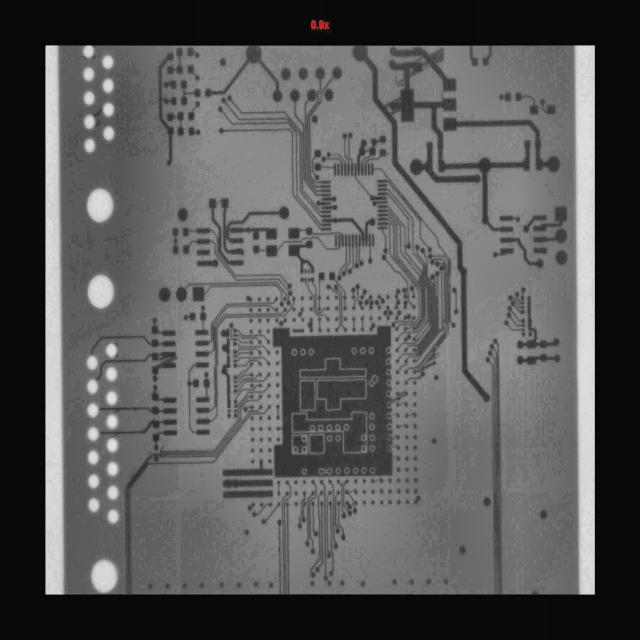Both: (86, 188, 114, 224), (90, 559, 118, 594), (87, 274, 114, 309), (104, 390, 120, 406), (85, 379, 99, 394), (106, 461, 119, 477), (83, 114, 96, 130), (87, 474, 100, 489), (106, 485, 119, 500), (82, 90, 95, 105), (86, 355, 99, 370), (83, 139, 96, 153), (87, 403, 99, 418), (88, 498, 100, 512), (87, 450, 99, 464), (105, 367, 117, 381), (106, 414, 117, 429), (103, 126, 114, 141), (106, 343, 117, 357), (107, 438, 118, 452), (83, 67, 94, 81), (108, 510, 119, 523), (102, 56, 113, 69), (103, 79, 114, 92), (103, 103, 114, 116), (88, 428, 99, 440), (83, 46, 94, 58)
L1: (315, 40, 529, 406), (364, 25, 569, 245), (78, 366, 273, 595), (75, 361, 263, 595), (77, 369, 264, 595), (349, 149, 481, 375), (216, 79, 359, 231), (165, 270, 299, 432), (218, 95, 360, 239), (220, 75, 355, 222), (226, 74, 354, 219), (272, 326, 393, 478), (167, 280, 288, 420), (369, 183, 440, 352), (364, 199, 444, 342), (176, 215, 295, 306), (159, 384, 266, 479), (180, 229, 297, 308), (360, 214, 435, 332), (355, 218, 431, 332), (367, 208, 437, 331), (181, 283, 280, 363), (439, 114, 564, 172), (378, 206, 431, 342), (185, 278, 279, 352), (393, 273, 456, 372), (277, 89, 331, 203), (403, 257, 450, 377), (410, 265, 463, 370), (371, 175, 441, 253), (388, 33, 462, 102), (408, 140, 483, 207), (303, 65, 342, 185), (205, 45, 284, 102), (293, 89, 331, 195), (405, 268, 446, 365), (220, 193, 291, 249), (91, 339, 179, 382), (301, 67, 331, 188), (197, 197, 245, 272), (367, 188, 425, 250), (404, 244, 436, 353), (292, 412, 368, 456), (176, 279, 292, 306), (516, 296, 567, 357), (412, 248, 441, 353), (374, 253, 424, 310), (490, 344, 501, 595), (485, 357, 496, 595), (89, 328, 177, 356), (488, 351, 498, 595), (192, 281, 285, 307), (493, 339, 502, 595), (252, 233, 342, 258), (498, 228, 545, 274), (210, 196, 244, 259), (428, 249, 463, 309), (345, 163, 389, 208), (318, 213, 369, 247), (296, 275, 330, 325), (352, 131, 388, 176), (187, 362, 209, 435), (159, 53, 173, 166), (317, 379, 367, 410), (98, 418, 178, 437), (279, 480, 292, 595), (287, 223, 346, 248), (299, 356, 366, 378), (528, 204, 572, 234), (324, 269, 354, 311), (230, 381, 273, 409), (310, 491, 324, 577), (278, 491, 289, 595), (231, 370, 272, 395), (305, 274, 330, 315), (512, 86, 543, 119), (358, 145, 389, 176), (223, 322, 254, 352), (147, 422, 179, 451), (230, 378, 263, 405), (288, 240, 314, 274), (147, 354, 178, 382), (315, 501, 327, 573), (325, 148, 353, 178), (320, 480, 328, 581), (325, 284, 341, 333), (328, 480, 339, 549), (333, 283, 348, 333), (302, 490, 315, 547), (515, 351, 561, 367), (223, 460, 272, 475), (520, 210, 549, 234), (223, 477, 274, 490), (149, 318, 179, 340), (231, 328, 271, 344), (230, 227, 277, 240), (309, 480, 317, 554), (358, 216, 377, 247), (232, 371, 263, 389), (353, 139, 368, 176), (98, 407, 177, 414), (221, 355, 231, 408), (232, 341, 271, 354), (260, 501, 281, 525), (344, 487, 362, 514), (338, 234, 348, 282), (299, 380, 315, 410), (231, 361, 255, 381), (534, 229, 568, 243), (320, 157, 345, 176), (342, 234, 353, 277), (334, 501, 346, 540), (505, 304, 527, 325), (181, 81, 201, 104), (152, 385, 177, 403), (167, 110, 184, 136), (536, 98, 559, 117), (196, 372, 210, 403), (501, 319, 526, 336), (223, 490, 274, 498), (341, 480, 352, 517), (195, 306, 209, 335), (326, 491, 332, 558), (378, 226, 392, 254), (250, 501, 273, 518), (342, 133, 351, 176), (167, 49, 183, 73), (233, 356, 271, 366), (505, 312, 526, 330), (329, 501, 334, 576), (286, 502, 290, 595), (337, 479, 346, 519), (231, 370, 254, 385), (403, 371, 426, 386), (298, 491, 307, 529), (491, 245, 515, 259), (232, 333, 262, 344), (507, 294, 526, 311), (309, 434, 325, 454), (390, 316, 416, 328), (186, 101, 200, 123), (311, 150, 321, 180), (292, 435, 307, 455), (277, 520, 281, 595), (465, 44, 478, 67), (509, 299, 526, 316), (310, 501, 318, 537), (348, 234, 355, 275), (185, 64, 200, 83), (314, 163, 337, 175), (318, 273, 325, 311), (356, 234, 364, 267), (233, 359, 262, 368), (481, 46, 494, 66), (348, 133, 354, 176), (352, 284, 361, 311), (554, 250, 570, 265), (233, 348, 262, 356), (335, 491, 340, 534), (353, 234, 359, 269), (390, 392, 409, 403), (395, 361, 409, 375), (500, 215, 521, 223), (233, 350, 254, 358), (514, 291, 525, 306), (297, 67, 309, 80), (323, 88, 335, 101), (197, 260, 219, 267), (177, 208, 188, 221), (164, 97, 178, 107), (453, 287, 458, 314), (278, 316, 289, 328), (187, 48, 200, 58), (368, 233, 372, 265), (222, 338, 230, 354), (173, 228, 178, 253), (363, 295, 374, 306), (160, 288, 170, 300), (376, 294, 387, 304), (281, 68, 290, 80), (374, 299, 383, 311), (385, 310, 394, 322), (372, 199, 387, 206), (307, 317, 314, 332), (218, 58, 228, 68), (189, 127, 200, 136), (539, 510, 548, 521), (382, 305, 391, 316), (519, 287, 526, 301), (164, 81, 176, 89), (321, 205, 337, 211), (499, 93, 511, 101), (243, 404, 255, 412), (409, 286, 416, 299), (344, 500, 353, 510), (412, 495, 421, 505), (360, 289, 368, 300), (317, 200, 331, 206), (534, 247, 548, 253), (184, 313, 196, 320), (302, 502, 306, 523), (234, 580, 243, 589), (247, 502, 256, 511), (403, 333, 412, 342), (321, 196, 337, 201), (297, 306, 304, 317), (394, 310, 401, 321), (394, 299, 401, 310), (218, 581, 227, 589), (221, 329, 230, 337), (392, 455, 401, 463), (405, 412, 417, 418), (403, 313, 412, 321), (351, 287, 356, 301), (394, 289, 401, 299), (267, 581, 275, 589), (352, 316, 356, 332), (360, 316, 364, 332), (459, 546, 466, 555), (253, 581, 260, 590), (277, 480, 281, 495), (371, 478, 383, 483), (397, 424, 409, 429), (396, 402, 408, 407), (396, 390, 406, 396), (318, 317, 322, 332), (368, 300, 374, 310), (402, 287, 407, 299), (359, 579, 366, 587), (147, 582, 154, 590), (293, 328, 304, 333), (359, 300, 364, 311), (182, 583, 189, 590), (433, 374, 440, 381), (484, 498, 490, 506), (443, 578, 449, 586), (197, 250, 209, 254), (245, 296, 253, 302), (392, 412, 400, 418), (402, 301, 408, 309), (276, 405, 279, 420), (377, 183, 388, 187), (199, 582, 205, 589), (395, 467, 402, 473), (312, 115, 317, 123), (392, 445, 400, 450), (392, 435, 400, 440), (370, 323, 375, 331), (372, 234, 375, 247), (425, 578, 431, 584), (339, 580, 345, 586), (412, 391, 418, 397), (377, 315, 383, 321), (432, 437, 437, 444), (392, 579, 397, 585), (409, 579, 414, 585), (327, 581, 332, 587), (310, 581, 315, 587), (413, 456, 418, 462), (274, 350, 280, 355), (250, 437, 255, 443), (412, 424, 418, 429), (404, 467, 410, 472), (413, 477, 418, 483), (413, 488, 418, 494), (333, 295, 338, 301), (276, 427, 283, 431), (369, 381, 374, 386), (283, 296, 288, 301), (265, 307, 270, 312), (274, 318, 279, 323), (249, 329, 254, 334), (275, 382, 280, 387), (249, 383, 254, 388), (267, 415, 272, 420), (259, 502, 264, 507), (302, 479, 307, 484), (379, 500, 384, 505), (412, 402, 417, 407), (405, 478, 410, 483), (405, 489, 410, 494), (412, 381, 417, 386), (325, 295, 330, 300), (368, 163, 370, 175), (396, 499, 400, 505), (369, 316, 373, 322), (335, 236, 337, 247), (528, 332, 532, 337), (309, 349, 313, 354), (369, 348, 373, 353), (258, 297, 262, 302), (257, 329, 261, 334), (227, 413, 231, 418), (234, 413, 238, 418), (250, 416, 254, 421), (268, 426, 272, 431), (259, 437, 263, 442), (294, 480, 298, 485), (294, 491, 298, 496), (294, 502, 298, 507), (354, 501, 358, 506), (388, 489, 392, 494), (388, 499, 392, 504), (397, 489, 401, 494), (405, 456, 409, 461), (301, 318, 305, 323), (326, 328, 331, 332), (309, 296, 313, 301), (334, 317, 338, 322), (361, 348, 364, 354), (521, 332, 525, 336), (166, 584, 170, 588), (413, 435, 417, 439), (293, 350, 297, 354), (387, 381, 391, 385), (373, 377, 377, 381), (266, 297, 270, 301), (257, 308, 261, 312), (249, 308, 253, 312), (292, 307, 296, 311), (249, 319, 253, 323), (266, 329, 270, 333), (275, 361, 279, 365), (227, 409, 231, 413), (259, 427, 263, 431), (250, 460, 254, 464), (250, 449, 254, 453), (362, 479, 366, 483), (371, 490, 375, 494), (371, 500, 375, 504), (396, 381, 400, 385), (405, 500, 409, 504), (309, 307, 313, 311), (300, 296, 304, 300), (386, 295, 390, 299), (246, 529, 249, 534), (414, 445, 417, 450), (405, 445, 408, 450), (387, 359, 390, 364), (258, 318, 261, 323), (276, 372, 279, 377), (268, 394, 271, 399), (251, 427, 254, 432), (363, 500, 366, 505), (405, 435, 408, 440), (344, 317, 347, 322), (338, 163, 339, 176), (414, 468, 417, 472), (301, 350, 304, 354), (387, 348, 390, 352), (387, 392, 390, 396), (388, 403, 391, 407), (388, 414, 391, 418), (276, 394, 279, 398), (259, 416, 262, 420), (277, 437, 280, 441), (269, 437, 272, 441), (363, 490, 366, 494), (354, 479, 357, 483), (380, 489, 383, 493), (388, 479, 392, 482), (397, 479, 400, 483), (335, 307, 338, 311), (388, 425, 391, 428), (293, 318, 296, 321), (267, 319, 270, 322), (234, 410, 237, 413), (259, 449, 262, 452), (268, 449, 271, 452), (268, 459, 271, 462), (304, 269, 306, 273), (308, 269, 310, 273), (353, 350, 355, 353)
